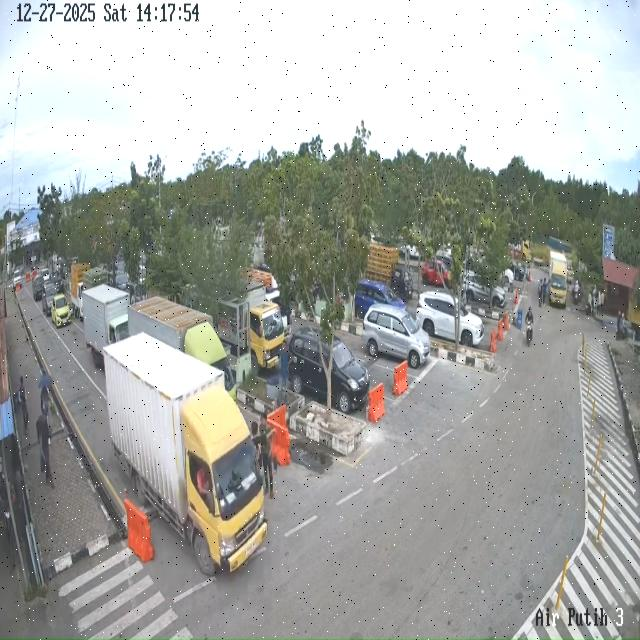Golongan IVA: (287, 327, 370, 414), (362, 304, 430, 368), (416, 291, 484, 347), (354, 279, 406, 320), (463, 272, 506, 308), (51, 294, 72, 328), (42, 281, 59, 316), (32, 274, 45, 302)
Golongan IVB: (70, 263, 91, 321)
Golongan VB: (105, 334, 267, 576), (128, 296, 236, 400), (217, 281, 284, 375), (83, 284, 129, 368), (548, 250, 568, 308)
